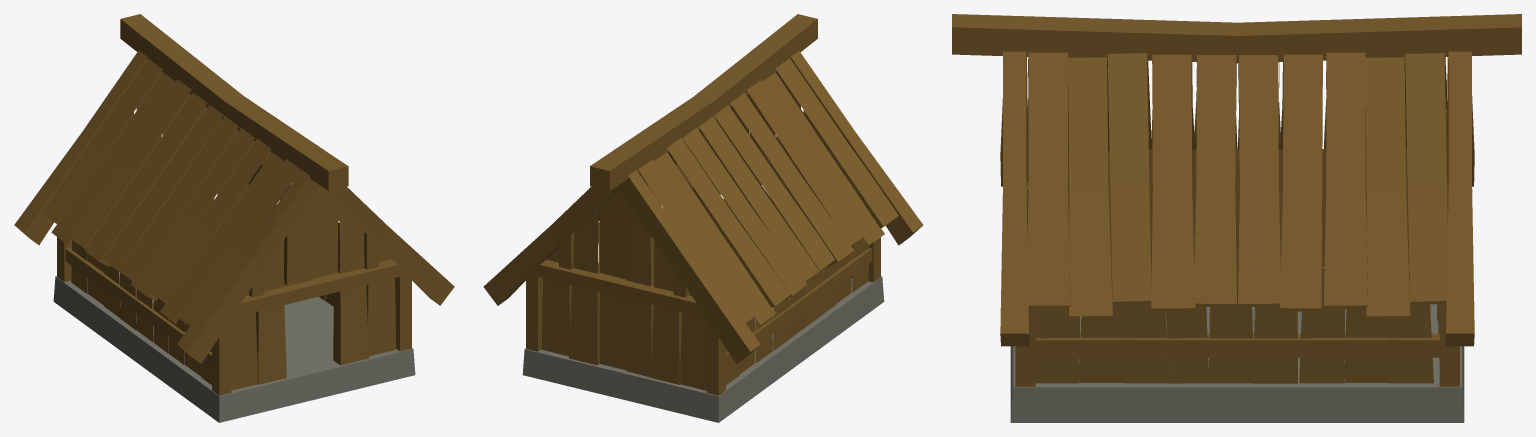
Rendered from house-2.glb.
3 views of the same model, side by side, from view 1: azimuth 30°, elevation 25°; view 2: azimuth 150°, elevation 25°; view 3: azimuth 270°, elevation 25° (orthographic). The views are drawn at different scales.
Parts seen in each view (by area): view 1: house-2; view 2: house-2; view 3: house-2.
Boxes of the visible parts, bbox=[...] form: house-2: bbox=[14, 14, 454, 422]; house-2: bbox=[483, 14, 923, 422]; house-2: bbox=[952, 14, 1521, 422].
Bounding box in the file's own units: 1.85 × 1.63 × 2.5.
